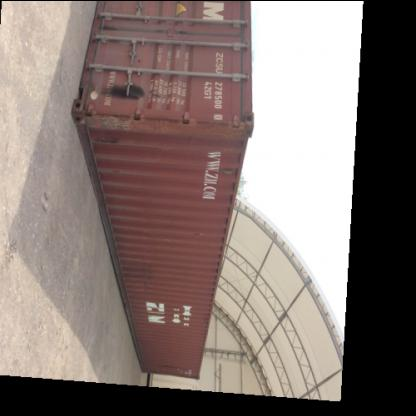Damage: (99, 78, 149, 104), (126, 262, 160, 298), (83, 110, 141, 131), (90, 132, 130, 146), (130, 55, 146, 63)
